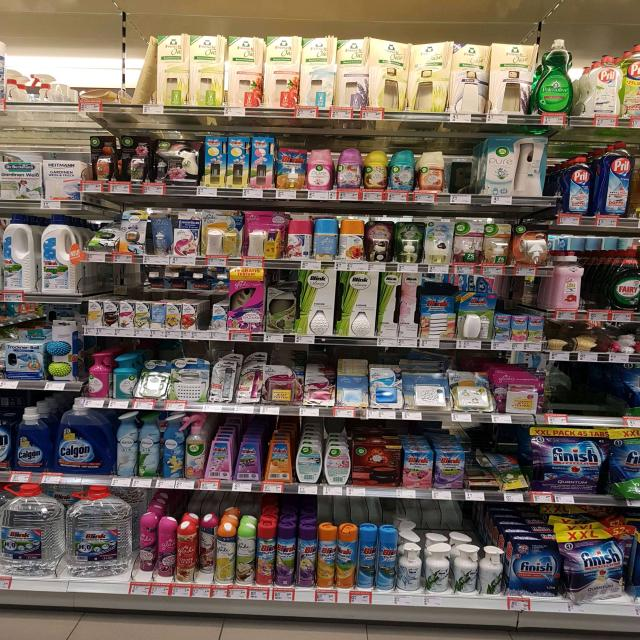empty: (553, 365, 640, 423), (447, 138, 487, 198)
